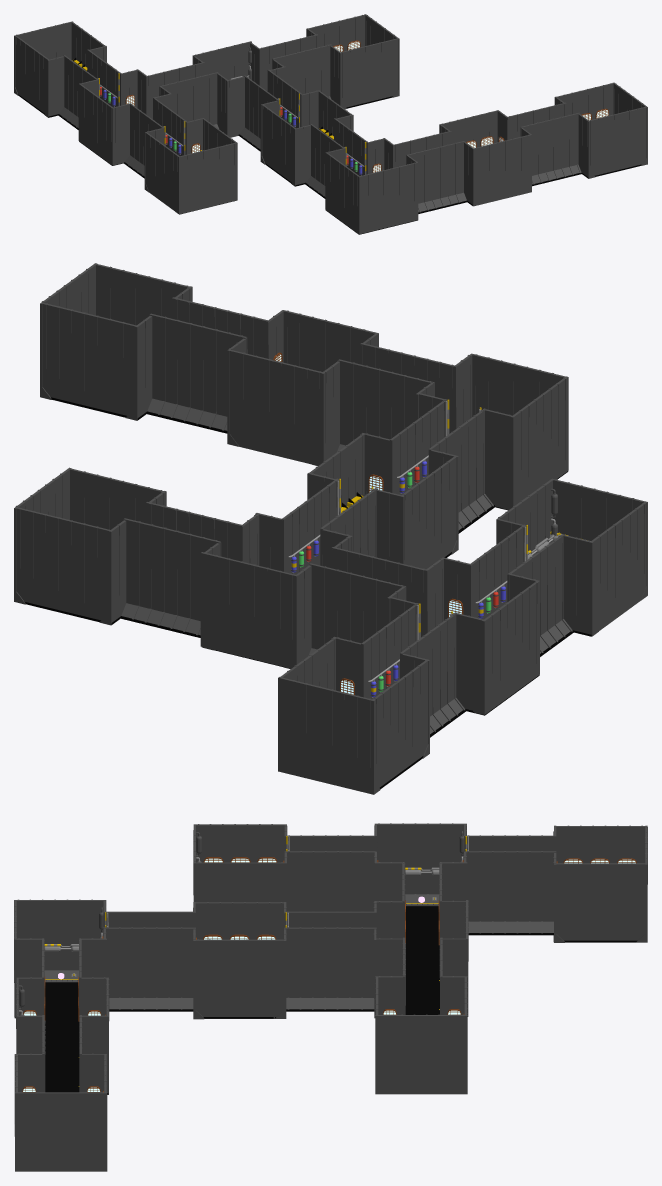
The model's file is Level6.fbx.
The picture shows the model from 3 angles, top to bottom: view 1: azimuth 30°, elevation 25°; view 2: azimuth 150°, elevation 25°; view 3: azimuth 270°, elevation 25°; orthographic projection. The views are drawn at different scales.
Visible parts, largest first — view 1: Wall2.037, Wall2.033, Wall1.030, Wall1.034, Wall1.029, СТЕНИЩЕ 2.038, СТЕНИЩЕ 2.046, Wall2.036, Wall2.034, СТЕНИЩЕ 2.050, СТЕНИЩЕ 2.048, Wall3.032 (+40 smaller); view 2: Wall1.036, Wall2.035, Wall3.029, Wall3.028, Wall3.031, СТЕНИЩЕ 2.037, СТЕНИЩЕ 2.047, Wall2.036, Wall2.034, СТЕНИЩЕ 2.049, СТЕНИЩЕ 2.045, Wall3.032 (+40 smaller); view 3: Wall1.033, Wall1.028, WallWithCapsules.019, WallWithCapsules.015, WallWithCapsules.017, Wall1.037, Wall1.032, WallWithCapsules.021, Wall2.036, Wall2.034, Wall2.038, Wall3.033 (+20 smaller).
Part boxes in pixels (bbox=[...]): Wall2.037: bbox=[175, 143, 237, 214]; Wall2.033: bbox=[470, 134, 531, 206]; Wall1.030: bbox=[359, 162, 417, 232]; Wall1.034: bbox=[341, 38, 397, 108]; Wall1.029: bbox=[589, 107, 646, 175]; СТЕНИЩЕ 2.038: bbox=[520, 112, 581, 184]; СТЕНИЩЕ 2.046: bbox=[406, 141, 466, 212]; Wall2.036: bbox=[78, 83, 119, 165]; Wall2.034: bbox=[325, 152, 366, 234]; СТЕНИЩЕ 2.050: bbox=[159, 72, 218, 128]; СТЕНИЩЕ 2.048: bbox=[272, 44, 331, 98]; Wall3.032: bbox=[146, 132, 179, 210]; Wall1.036: bbox=[278, 677, 380, 794]; Wall2.035: bbox=[200, 552, 300, 668]; Wall3.029: bbox=[230, 350, 327, 464]; Wall3.028: bbox=[42, 303, 136, 417]; Wall3.031: bbox=[16, 507, 109, 620]; СТЕНИЩЕ 2.037: bbox=[147, 313, 246, 430]; СТЕНИЩЕ 2.047: bbox=[121, 518, 220, 635]; Wall2.036: bbox=[473, 581, 539, 714]; Wall2.034: bbox=[501, 376, 568, 509]; СТЕНИЩЕ 2.049: bbox=[308, 563, 406, 655]; СТЕНИЩЕ 2.045: bbox=[337, 359, 434, 451]; Wall3.032: bbox=[591, 502, 646, 630]; Wall1.033: bbox=[375, 1014, 467, 1094]; Wall1.028: bbox=[15, 1092, 107, 1171]; WallWithCapsules.019: bbox=[284, 925, 376, 1009]; WallWithCapsules.015: bbox=[105, 925, 195, 1009]; WallWithCapsules.017: bbox=[465, 849, 556, 933]; Wall1.037: bbox=[556, 863, 645, 942]; Wall1.032: bbox=[195, 939, 283, 1018]; WallWithCapsules.021: bbox=[284, 849, 374, 911]; Wall2.036: bbox=[375, 823, 466, 906]; Wall2.034: bbox=[14, 899, 106, 982]; Wall2.038: bbox=[194, 862, 286, 906]; Wall3.033: bbox=[554, 825, 645, 863].
Bounding box in the file's own units: 82489 × 11570 × 82128.
